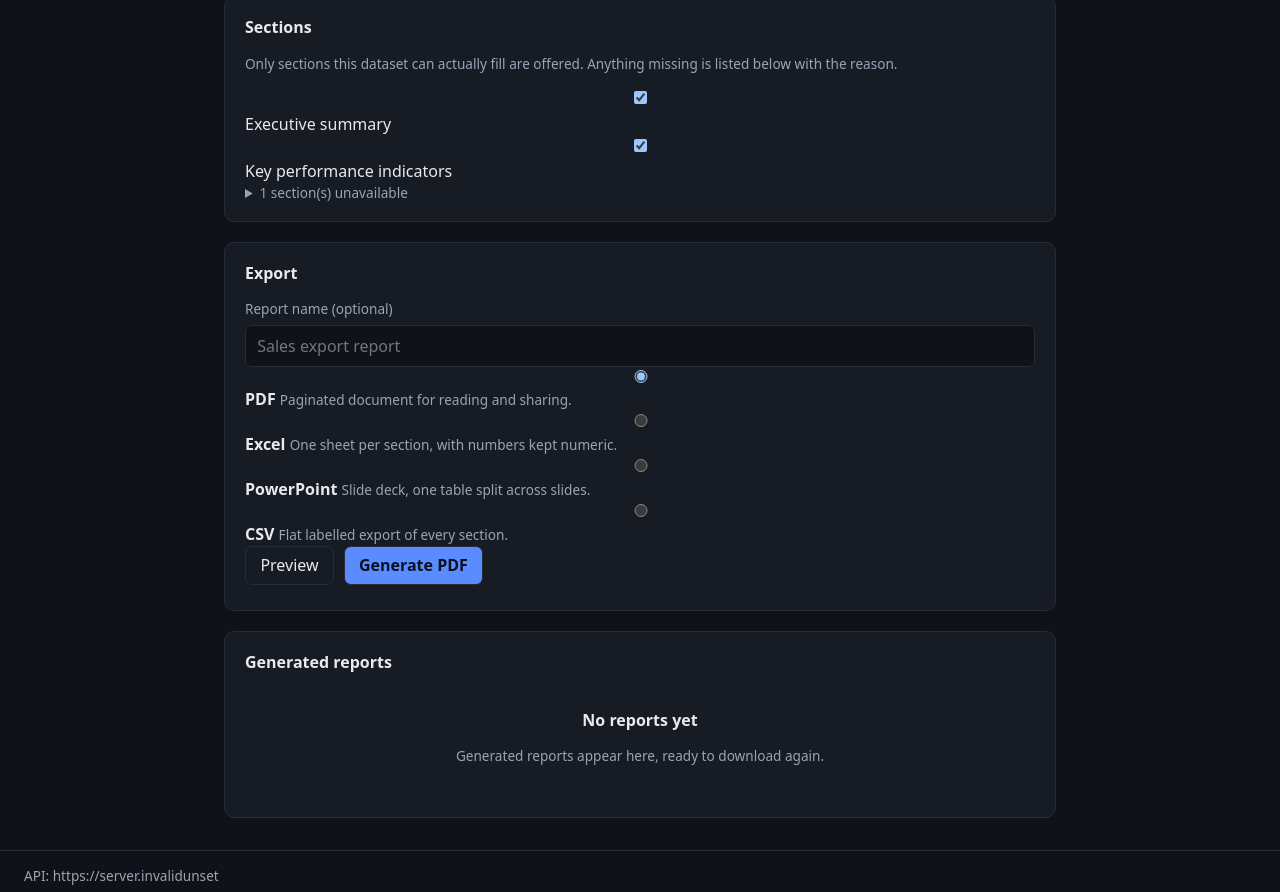
DatasetReportsPage › states that the report is deterministic when no AI provider is configured
This screenshot has width=1280, height=892.
(page scrolled)
Click the button "Preview" at x=290, y=565, box 245,546 -> 334,585
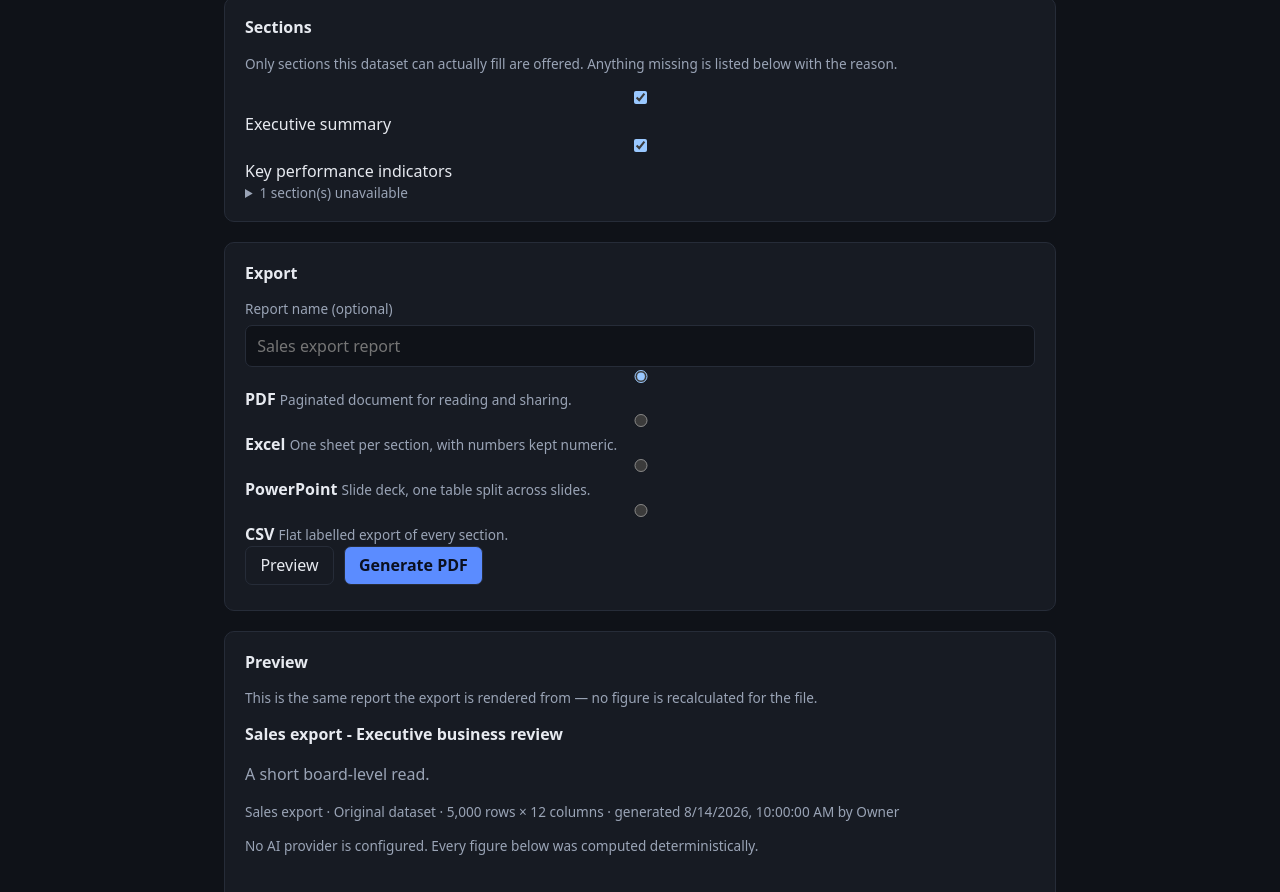
Expected: the text with test id "report-ai-status" shows "No AI provider is configured.", 245,836 -> 428,855
